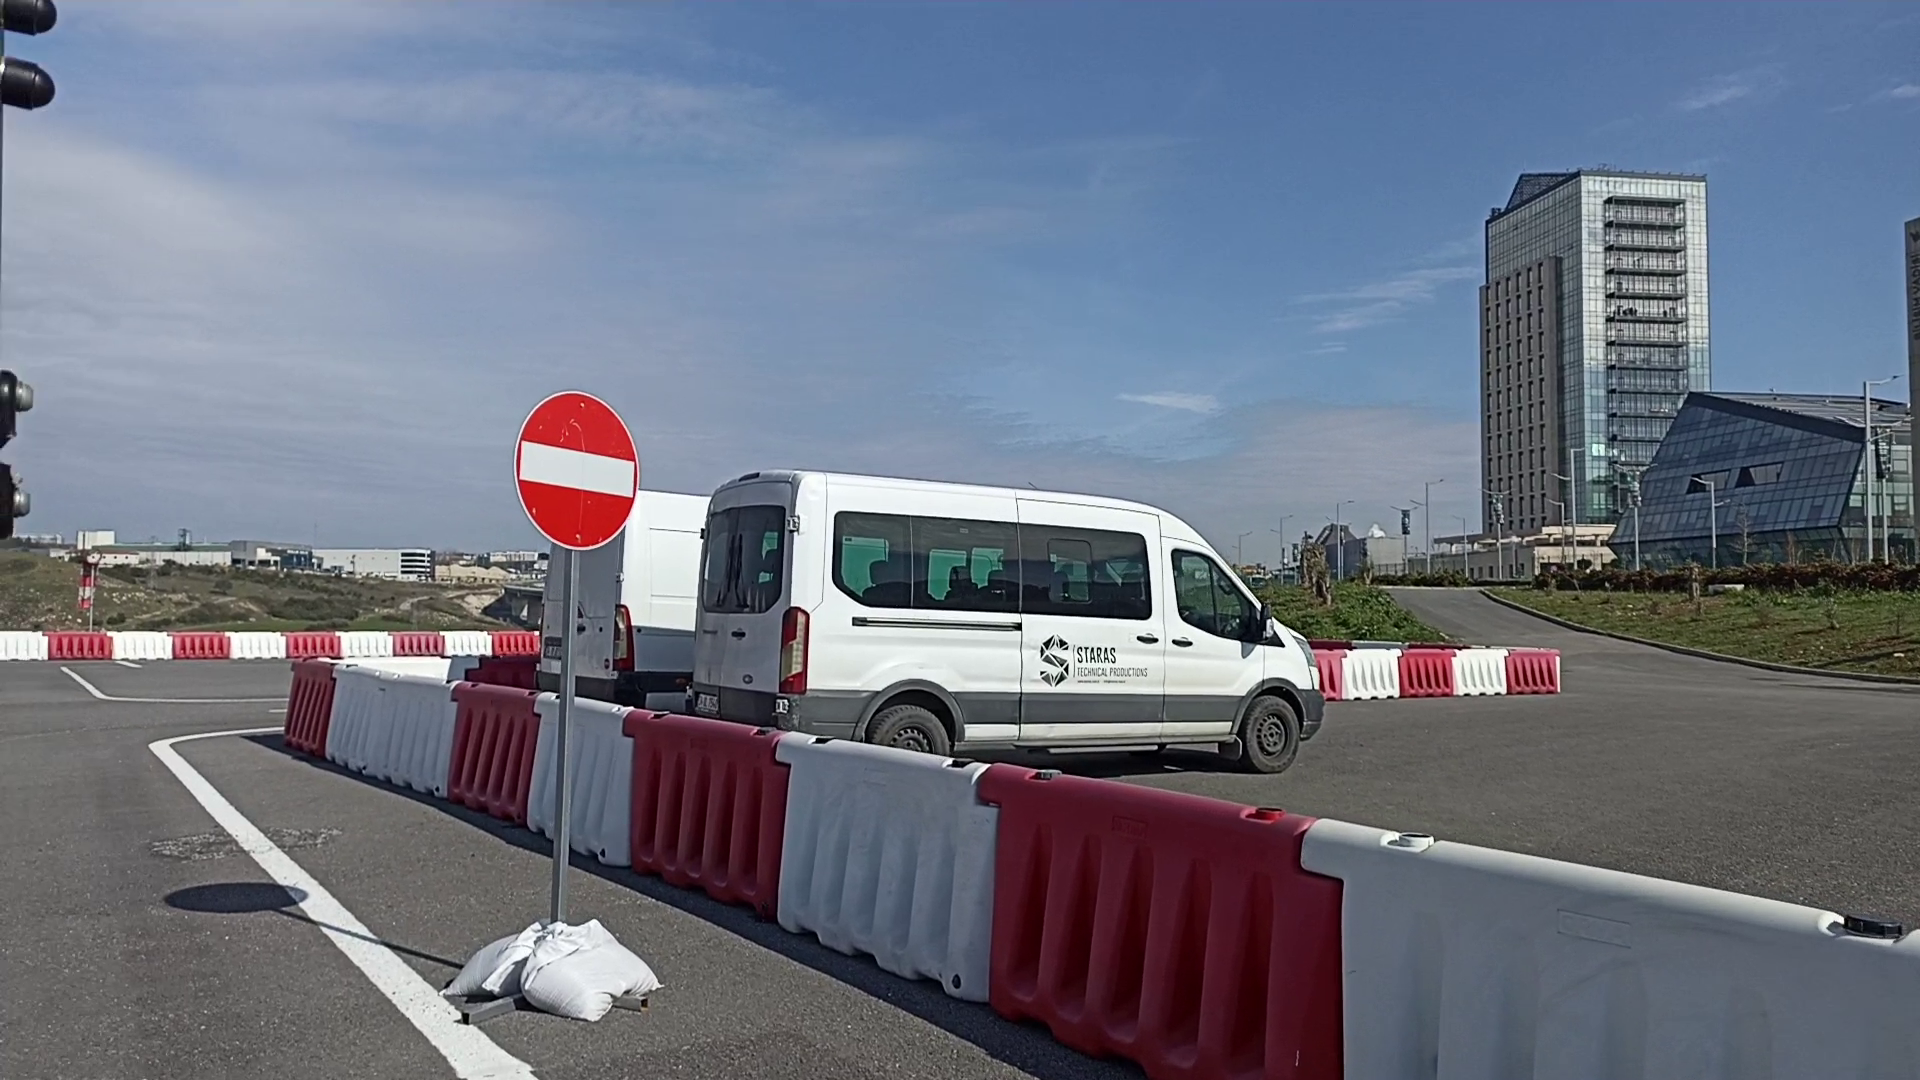noentryway: (510, 389, 642, 554)
